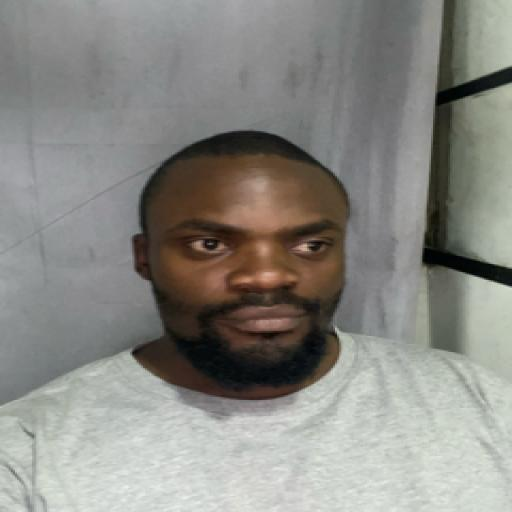JEANLUC: (130, 126, 364, 392)
